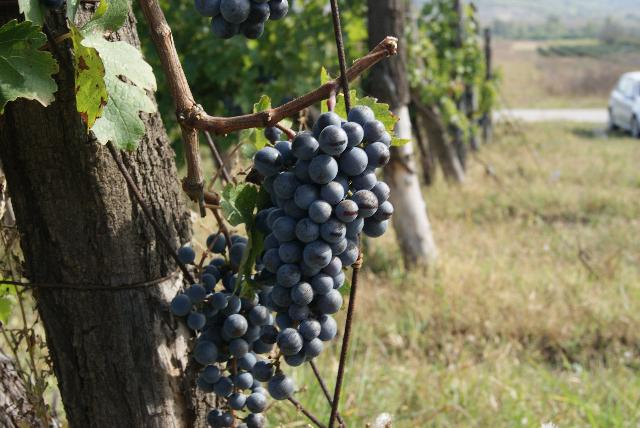grapes: (270, 105, 391, 360), (170, 241, 308, 428)
